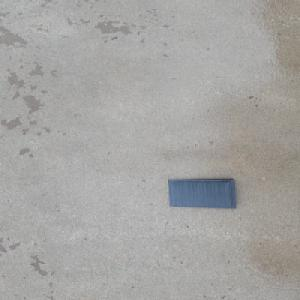PlasticPart: (167, 178, 237, 209)
